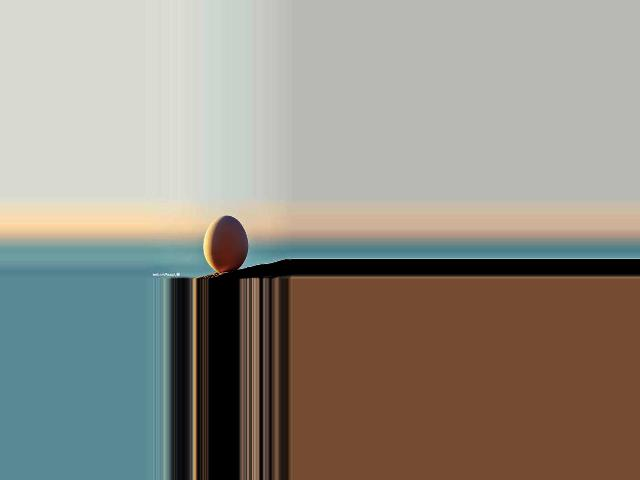egg: (202, 215, 248, 272)
